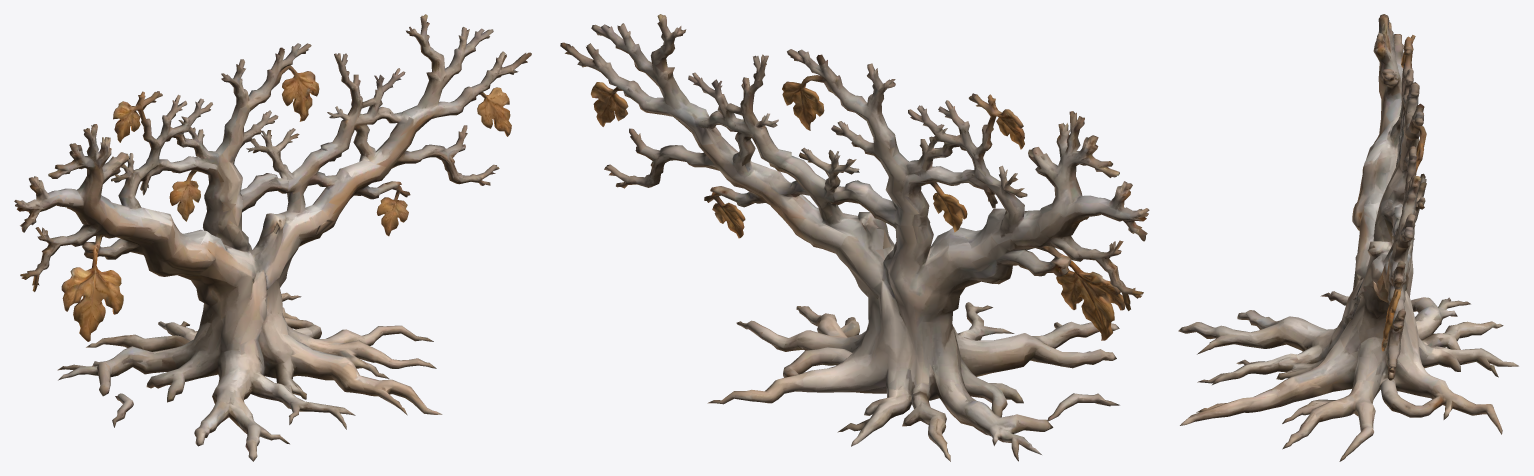
The model's file is figueira_seca.glb.
3 renders of one model, left to right at view 1: azimuth 30°, elevation 25°; view 2: azimuth 150°, elevation 25°; view 3: azimuth 270°, elevation 25°, orthographic. The views are drawn at different scales.
Visible parts, largest first — view 1: Figueira_Seca; view 2: Figueira_Seca; view 3: Figueira_Seca.
Part boxes in pixels (x1,y1,x2,y2): Figueira_Seca: (14,14,531,461); Figueira_Seca: (560,14,1149,461); Figueira_Seca: (1178,14,1518,461).
Size of the model in its own units: 7.67 by 4.2 by 4.28.
Materials: 1 (1 with a texture image).
